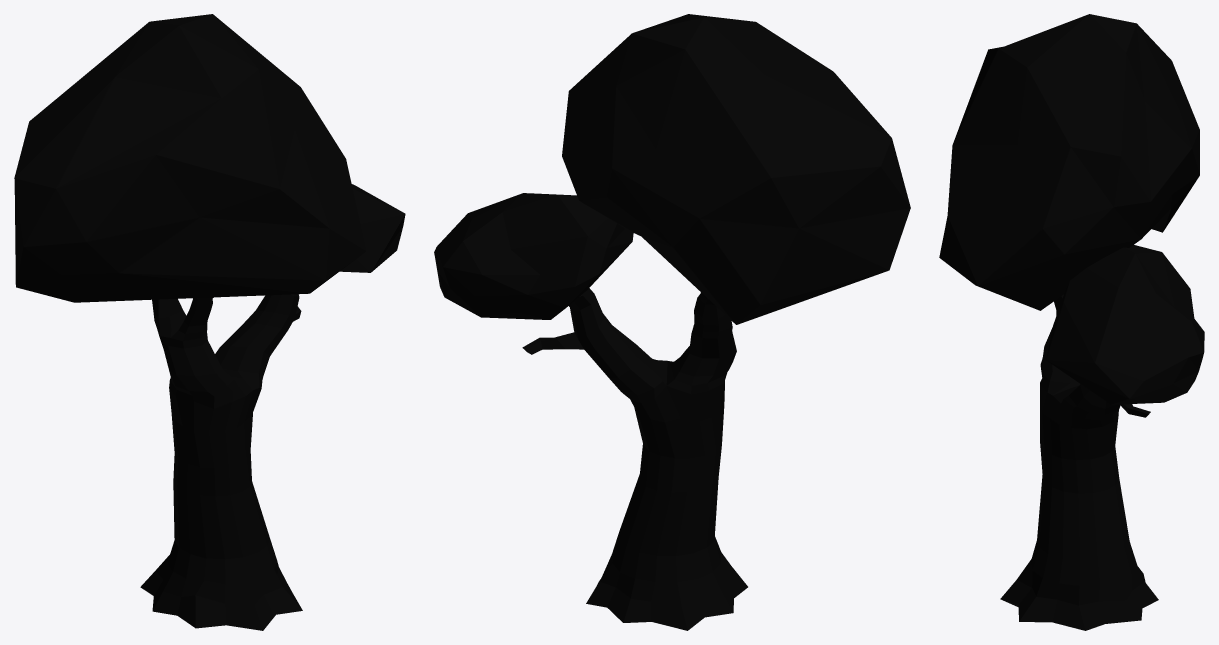
Rendered from tree_oak2.fbx.
The picture shows the model from 3 angles, left to right: view 1: azimuth 30°, elevation 25°; view 2: azimuth 150°, elevation 25°; view 3: azimuth 270°, elevation 25°; orthographic projection. The views are drawn at different scales.
Visible parts, largest first — view 1: oak2; view 2: oak2; view 3: oak2.
Part boxes in pixels (x1=…): oak2: x1=14, y1=14, x2=405, y2=630; oak2: x1=434, y1=14, x2=910, y2=630; oak2: x1=939, y1=14, x2=1204, y2=630.
Size of the model in its own units: 644 by 844 by 358.
